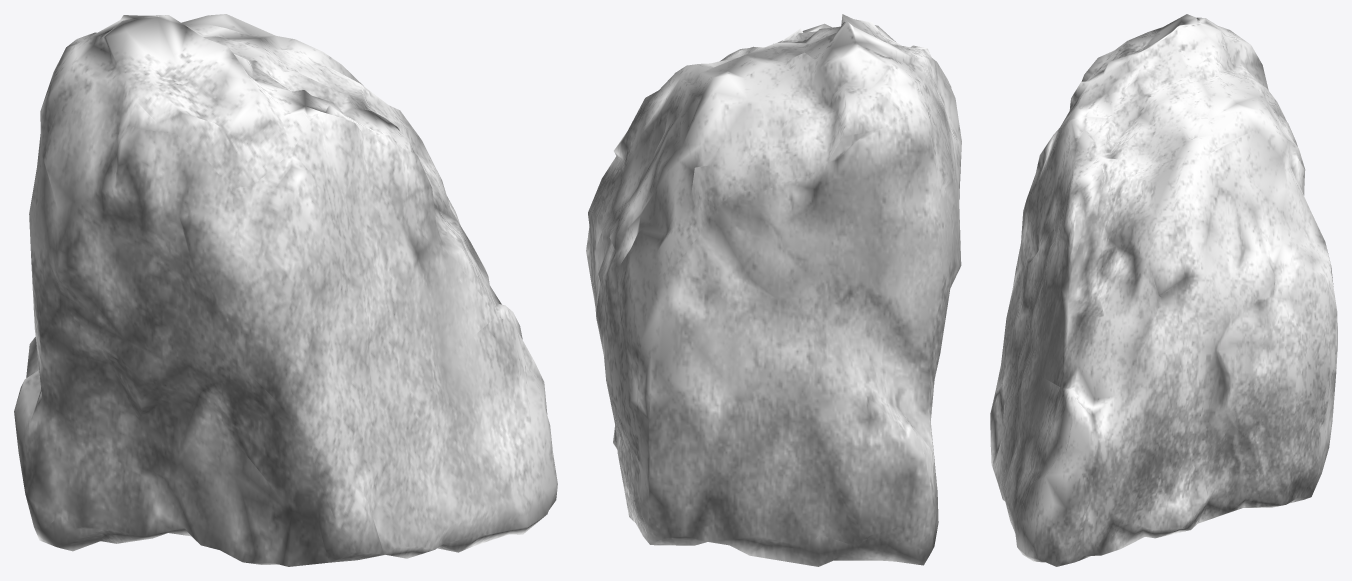
File: sandstone.glb
3 views of the same model, side by side, from view 1: azimuth 30°, elevation 25°; view 2: azimuth 150°, elevation 25°; view 3: azimuth 270°, elevation 25° (orthographic). The views are drawn at different scales.
Bounding box in the file's own units: 5.61 × 6.52 × 4.76.
Materials: 1 (1 with a texture image).
